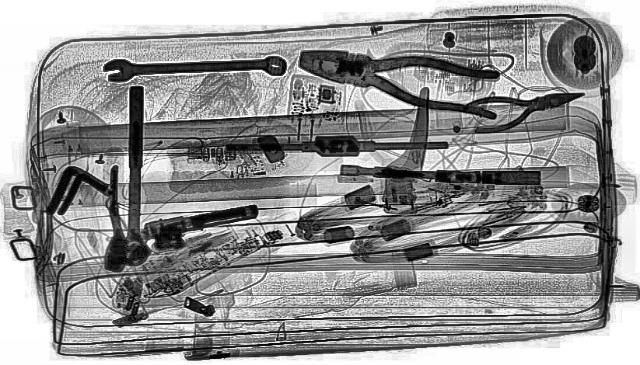Gun: (128, 202, 272, 254)
Pliers: (282, 35, 524, 119), (450, 78, 598, 136)
Wrench: (100, 52, 286, 80)
